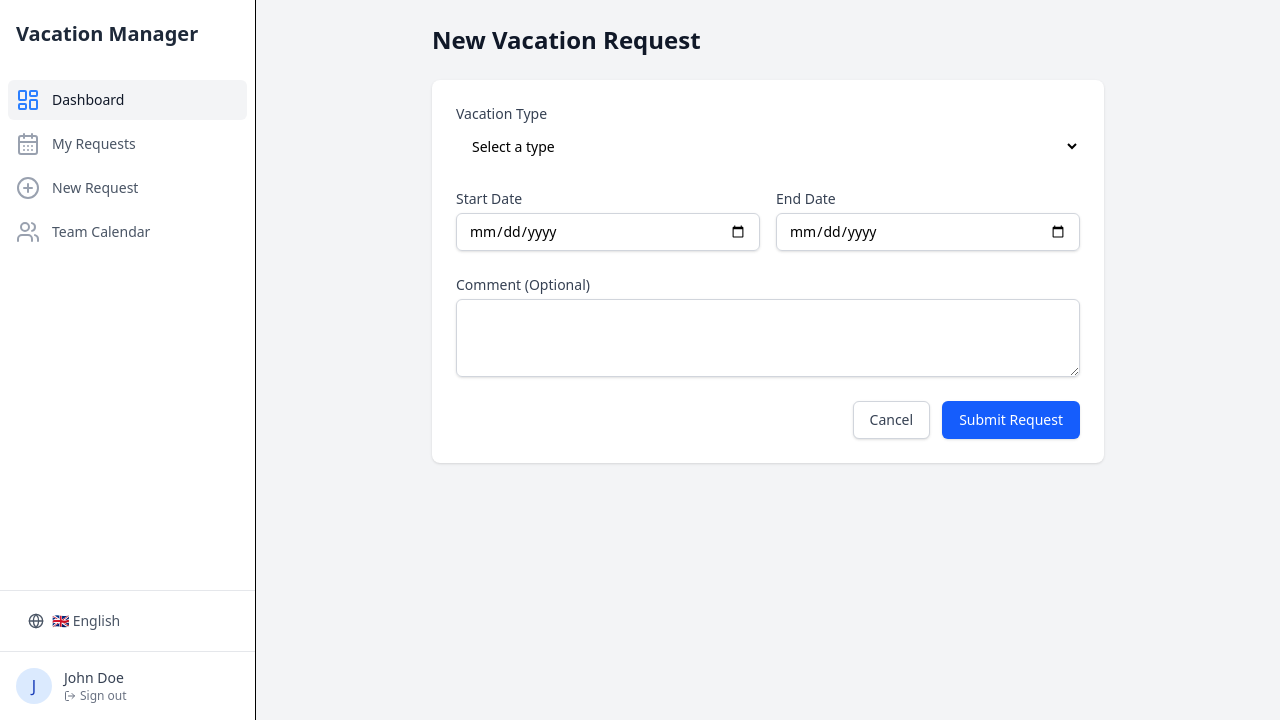
Test: NewRequestPage › shows balance information when a type is selected
Step 1. Select "Annual Leave" in the dropdown labelled "Vacation Type" → (768, 146), box [456,128,1080,165]
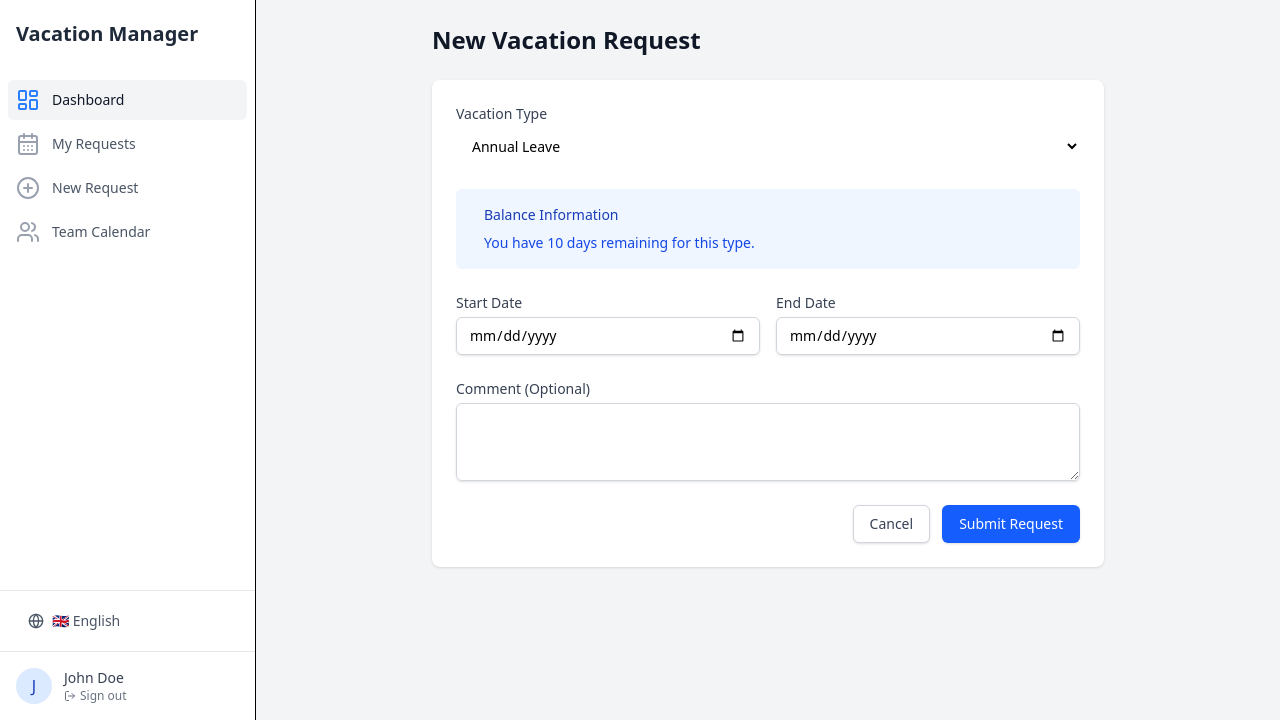
Expected: the text "You have 10 days remaining for this type." is shown, [484,233,755,253]
